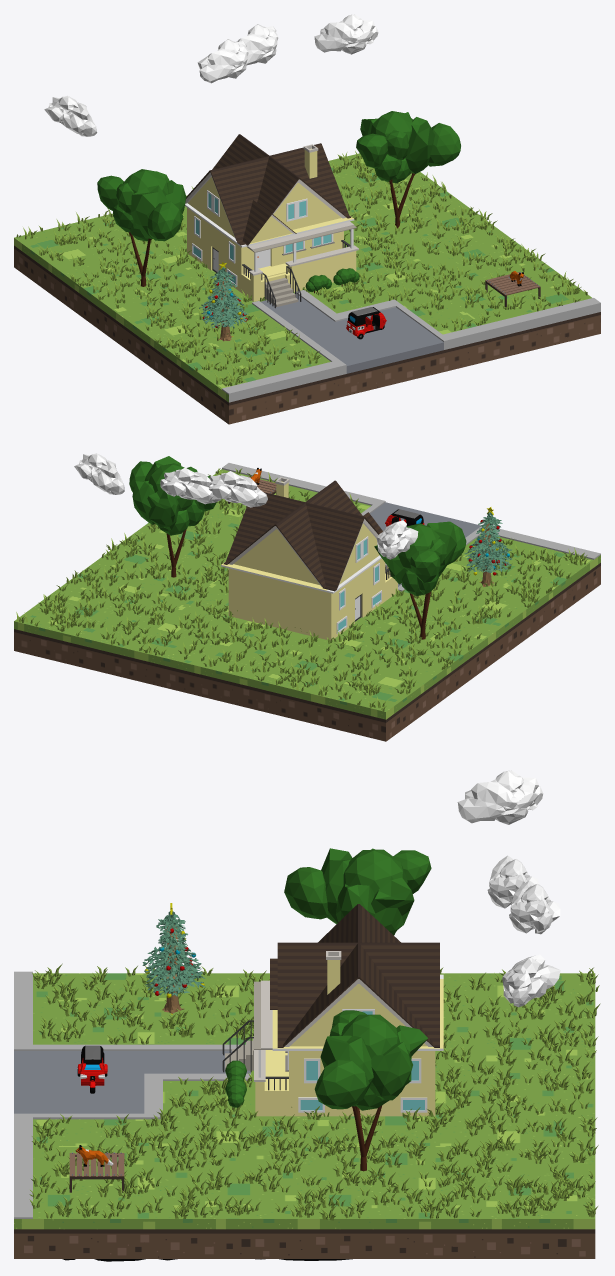
3 renders of one model, top to bottom at view 1: azimuth 30°, elevation 25°; view 2: azimuth 150°, elevation 25°; view 3: azimuth 270°, elevation 25°, orthographic. The views are drawn at different scales.
Visible parts, largest first — view 1: Cube.006, Cube.1555, Circle.012_Grass_0.192, Cube.007, tree, tree.001, OBJRANDOM_CHRISTMAS_TREE, VEHICLES_TUC_TUC, Cube.009; view 2: Cube.006, Cube.1555, Circle.012_Grass_0.192, Cube.007, tree.001, tree, OBJRANDOM_CHRISTMAS_TREE, VEHICLES_TUC_TUC; view 3: Cube.006, Circle.012_Grass_0.192, Cube.1555, tree, Cube.007, tree.001, OBJRANDOM_CHRISTMAS_TREE, Cube.009, VEHICLES_TUC_TUC.
Part boxes in pixels (<box>): Cube.006: <box>14,153,600,424</box>; Cube.1555: <box>185,134,358,308</box>; Circle.012_Grass_0.192: <box>16,151,587,386</box>; Cube.007: <box>44,14,378,136</box>; tree: <box>356,111,460,228</box>; tree.001: <box>97,169,186,286</box>; OBJRANDOM_CHRISTMAS_TREE: <box>199,262,248,341</box>; VEHICLES_TUC_TUC: <box>346,307,386,339</box>; Cube.009: <box>485,272,540,306</box>; Cube.006: <box>14,463,600,741</box>; Cube.1555: <box>221,477,397,640</box>; Circle.012_Grass_0.192: <box>16,468,587,711</box>; Cube.007: <box>74,453,418,559</box>; tree.001: <box>374,521,466,639</box>; tree: <box>129,456,216,577</box>; OBJRANDOM_CHRISTMAS_TREE: <box>464,507,511,586</box>; VEHICLES_TUC_TUC: <box>385,509,424,526</box>; Cube.006: <box>14,971,595,1258</box>; Circle.012_Grass_0.192: <box>29,963,600,1220</box>; Cube.1555: <box>222,904,443,1116</box>; tree: <box>314,1010,427,1171</box>; Cube.007: <box>457,770,560,1007</box>; tree.001: <box>284,848,431,935</box>; OBJRANDOM_CHRISTMAS_TREE: <box>142,903,205,1014</box>; Cube.009: <box>69,1152,124,1192</box>; VEHICLES_TUC_TUC: <box>77,1045,107,1093</box>.
Size of the model in its own units: 4071 by 2149 by 4040.
39 materials, 3 textured.
